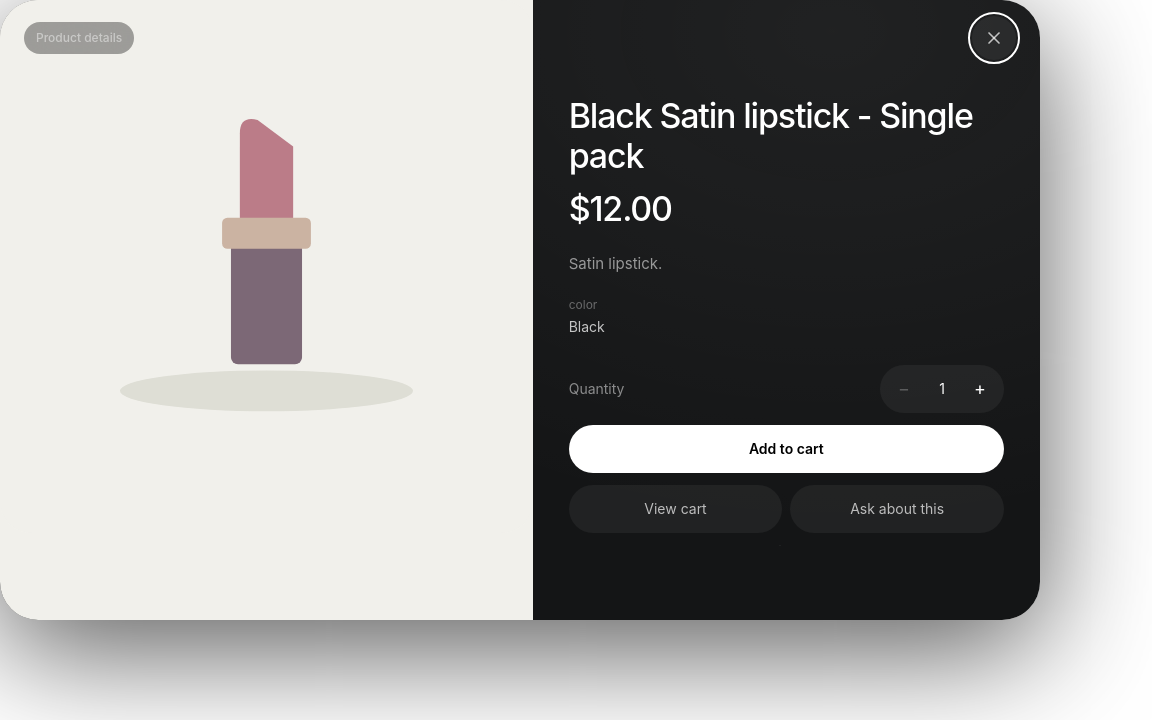
Scenario: sends quantity only once, does not claim added on an accepted response
This screenshot has width=1152, height=720.
Click the button named "Increase quantity" at (980, 389), box x1=960 y1=369 x2=1000 y2=409
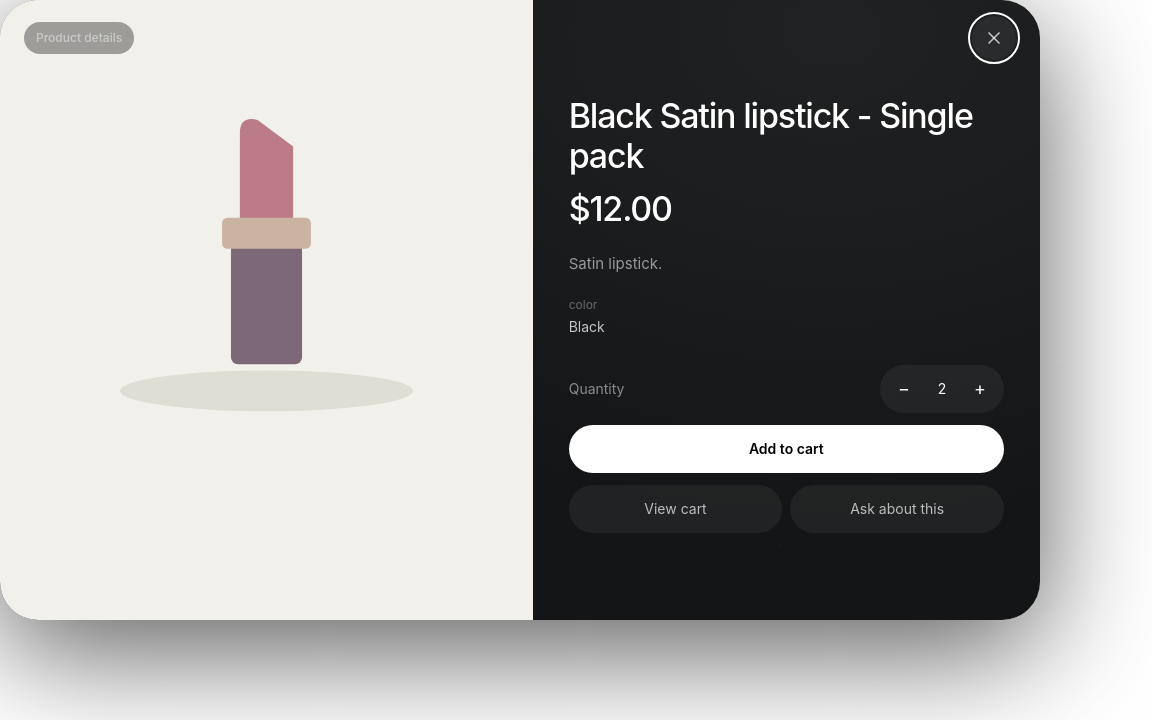
Click the button "Add to cart" at (786, 449), box x1=569 y1=425 x2=1004 y2=473
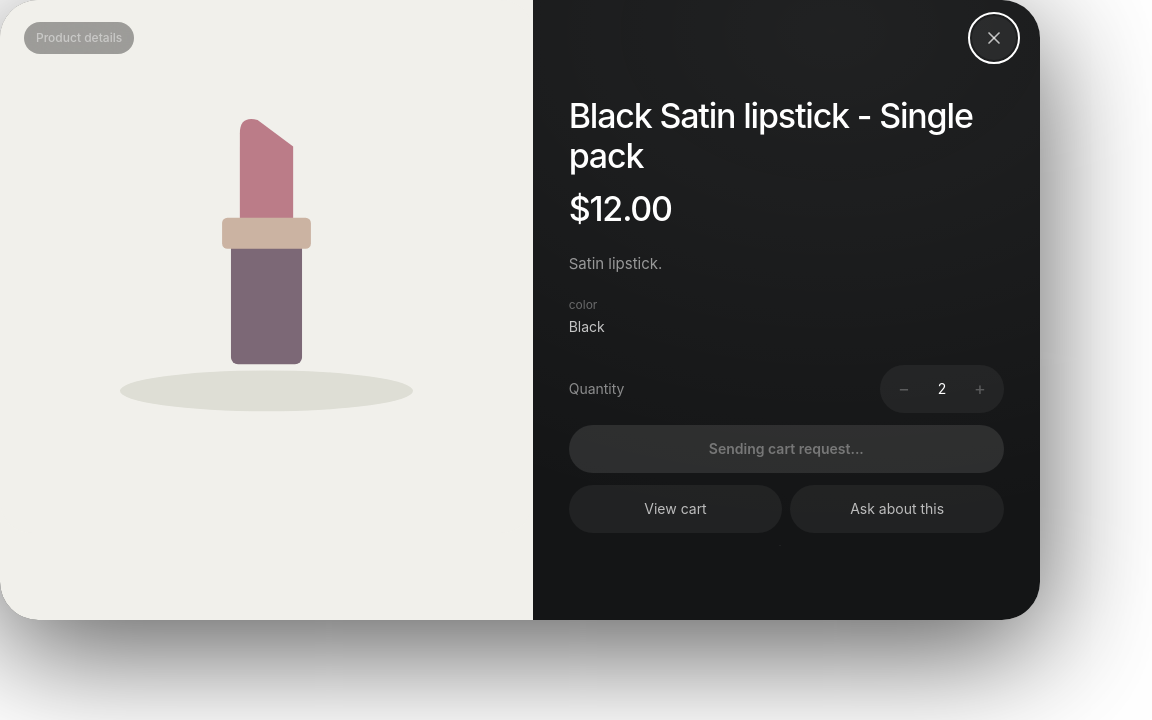
Click the button named "Add to cart" at (786, 449), box x1=569 y1=425 x2=1004 y2=473
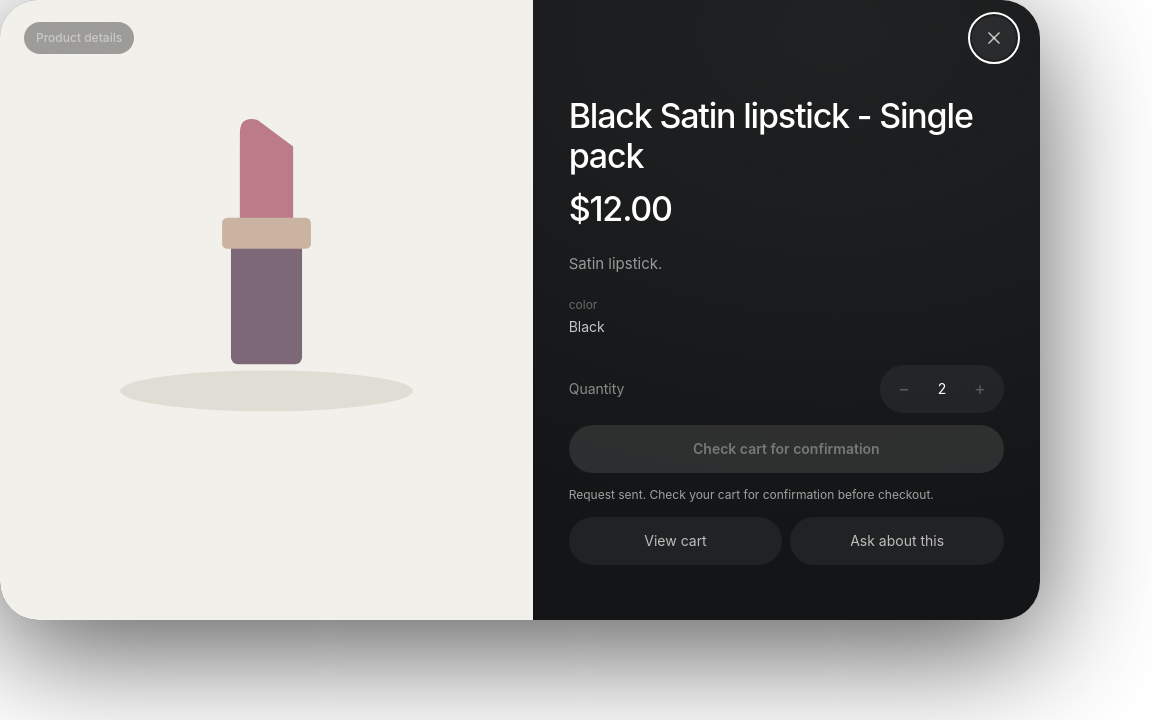
Check: the button named "Add to cart" is disabled, box x1=569 y1=425 x2=1004 y2=473
Check: the button "Check cart for confirmation" is disabled, box x1=569 y1=425 x2=1004 y2=473
Check: the message shows "Check your cart for confirmation", box x1=569 y1=487 x2=934 y2=502
